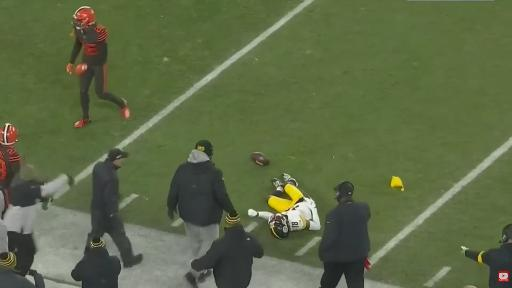Helmet: (270, 214, 290, 239), (73, 7, 95, 29), (0, 124, 17, 146)
Jersey: (70, 24, 107, 65), (281, 201, 319, 231), (283, 202, 312, 231), (0, 146, 20, 188)
Player: (67, 7, 130, 128), (248, 174, 321, 239), (0, 124, 20, 214)
